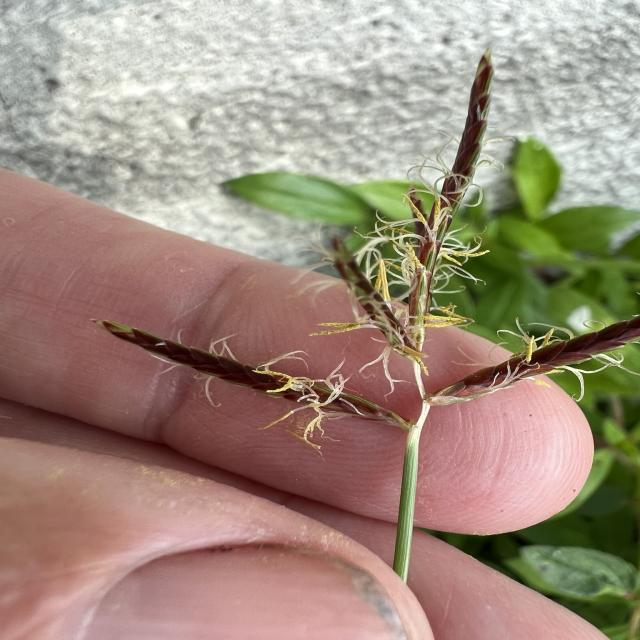cyperus: (83, 42, 640, 464)
